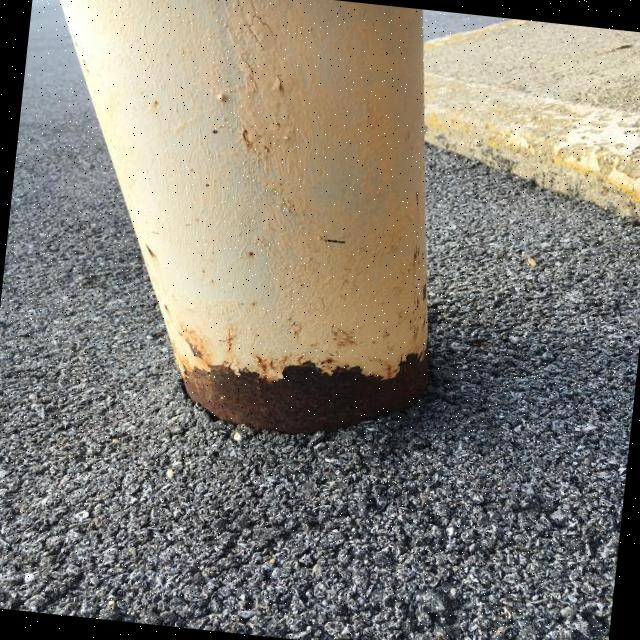Corrosion: (166, 282, 437, 448)
